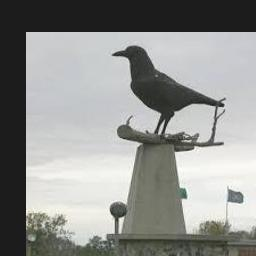Crow: (112, 45, 226, 140)
